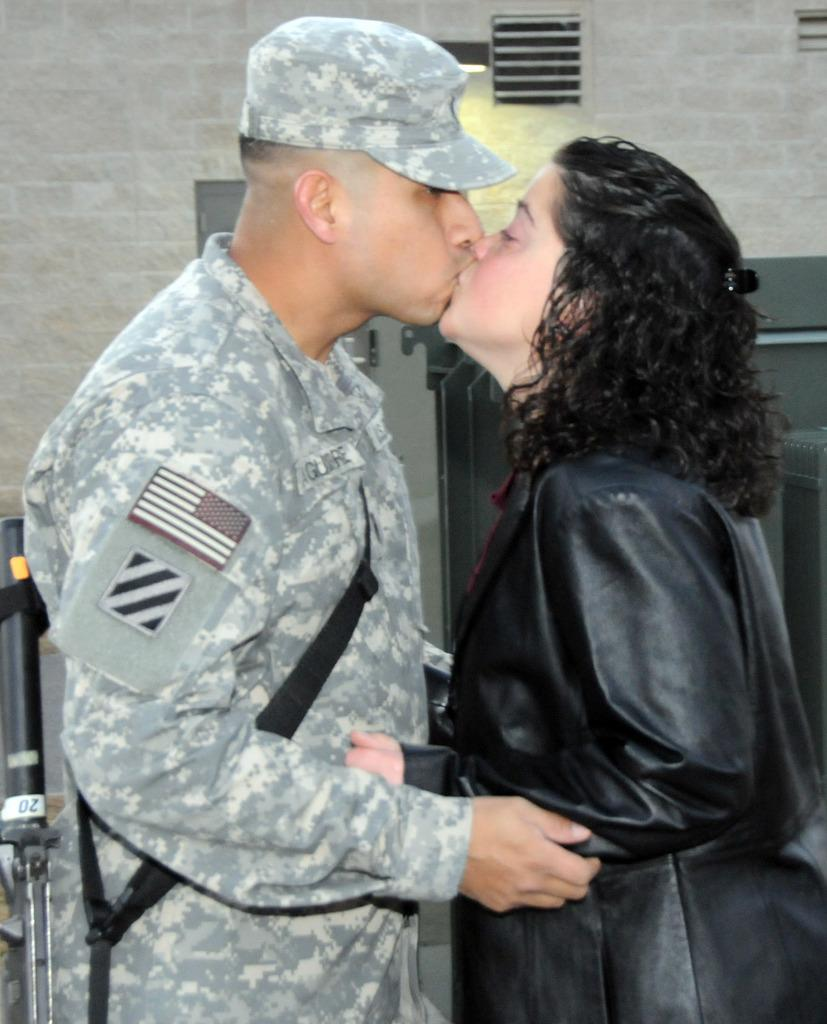Hat: (240, 16, 514, 195)
